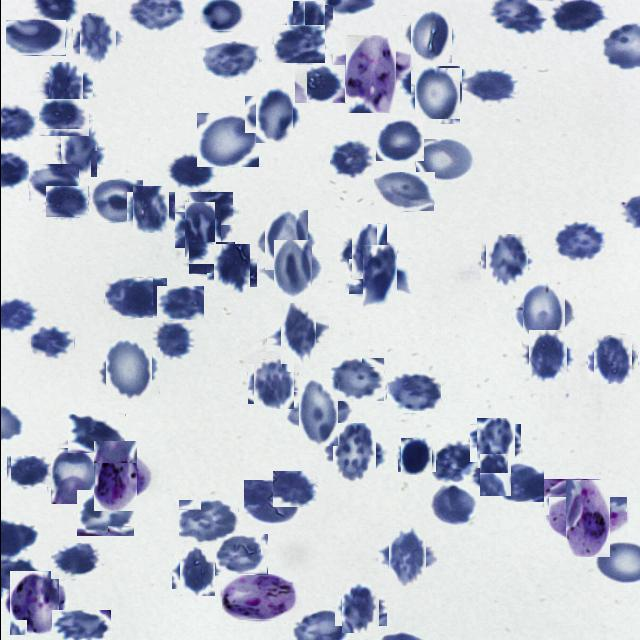difficult: (86, 447, 143, 504)
red blood cell: (196, 113, 258, 167), (100, 344, 154, 398), (291, 385, 345, 439), (517, 286, 569, 339), (76, 490, 134, 537), (411, 69, 463, 121), (260, 214, 312, 266), (48, 450, 100, 502), (178, 500, 238, 545), (328, 426, 378, 478), (243, 480, 300, 525), (354, 252, 404, 302), (415, 139, 472, 182), (373, 172, 434, 212), (330, 358, 384, 402), (382, 532, 430, 581), (67, 414, 125, 454), (273, 310, 321, 358), (249, 91, 297, 138), (406, 12, 454, 59), (268, 245, 316, 292), (482, 237, 530, 284), (202, 41, 259, 80), (386, 372, 441, 412), (5, 20, 65, 56), (91, 180, 142, 222), (215, 534, 267, 575), (543, 479, 602, 515), (179, 207, 225, 253), (345, 228, 391, 274), (554, 221, 604, 263), (250, 361, 295, 407), (524, 333, 570, 378), (375, 118, 423, 161), (338, 584, 382, 630), (461, 69, 517, 105), (492, 462, 542, 502), (294, 65, 345, 104), (76, 16, 120, 61), (427, 484, 476, 524), (38, 99, 89, 137), (273, 25, 324, 63), (56, 130, 100, 174), (472, 421, 516, 465), (590, 338, 634, 382), (43, 67, 87, 111), (50, 543, 102, 580), (104, 278, 152, 318), (28, 164, 78, 202), (549, 0, 607, 32), (175, 550, 218, 593), (328, 140, 374, 180), (433, 440, 473, 486), (51, 610, 110, 640), (129, 189, 171, 231), (210, 248, 252, 290), (166, 152, 214, 188), (154, 320, 194, 362), (288, 1, 328, 42), (186, 192, 233, 226), (156, 286, 203, 320), (272, 471, 315, 507), (30, 326, 74, 360), (188, 242, 234, 274), (128, 278, 166, 316), (476, 456, 514, 494), (6, 456, 51, 488), (199, 0, 244, 32), (45, 186, 88, 218), (398, 438, 433, 474)
trophozoite: (338, 41, 402, 106), (556, 488, 618, 550), (221, 574, 296, 620), (5, 574, 62, 631)
